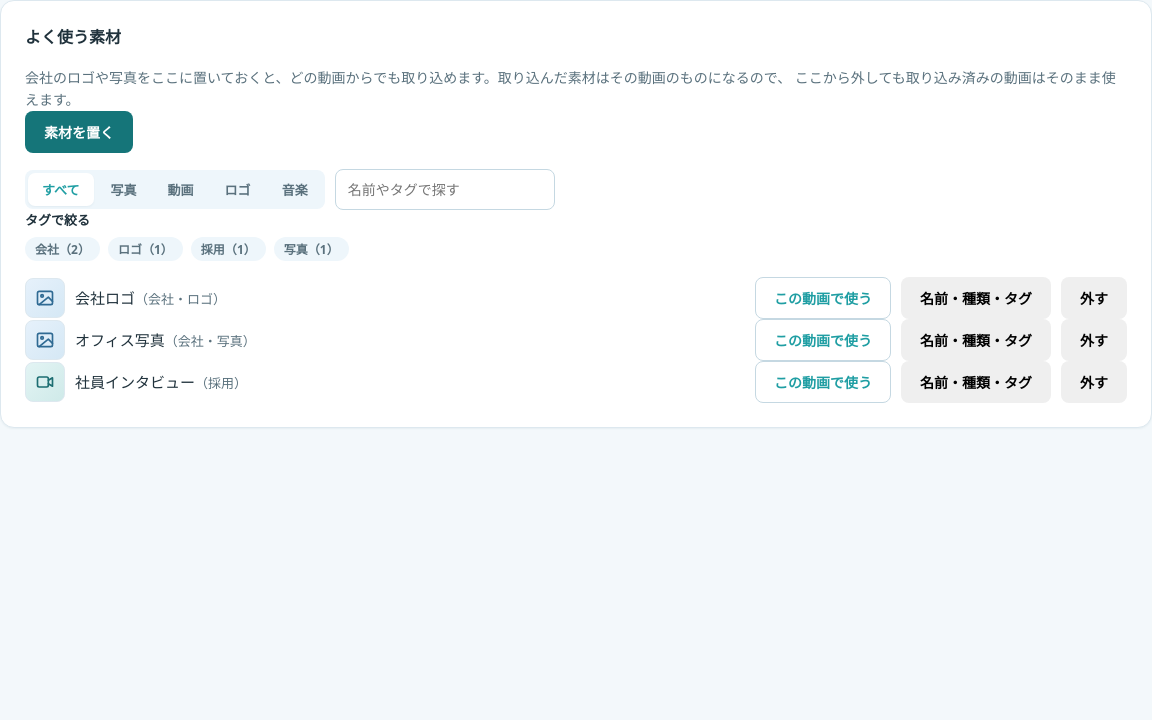
Test case: AssetLibraryPanel › 会社の見た目のロゴを外せなかったら、そう言う
Expected: the text "会社ロゴ" is shown, [75,288,135,308]
Click the button "外す" in the row of "会社ロゴ". click: (1094, 298)
box: [1061,277,1127,319]
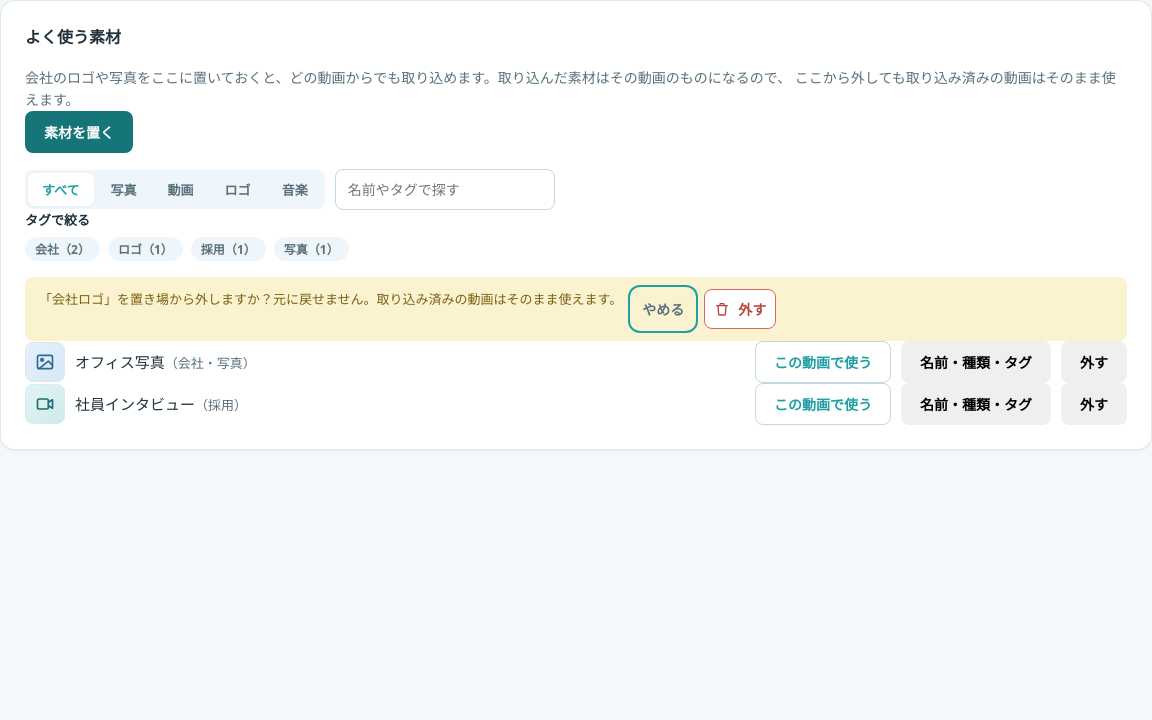
Click the 1st button "外す". click: (740, 309)
box: [704,289,776,329]
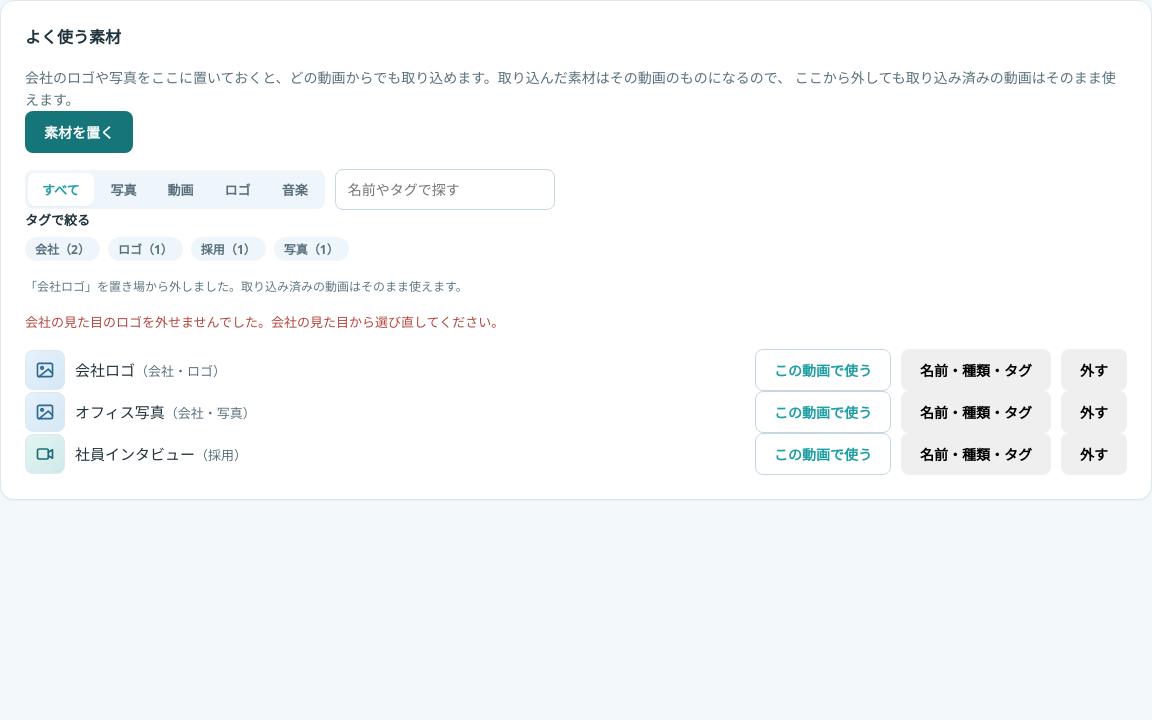
Now the text "会社の見た目のロゴを外せませんでした。会社の見た目から選び直してください。" is shown, box [25,313,504,331]
